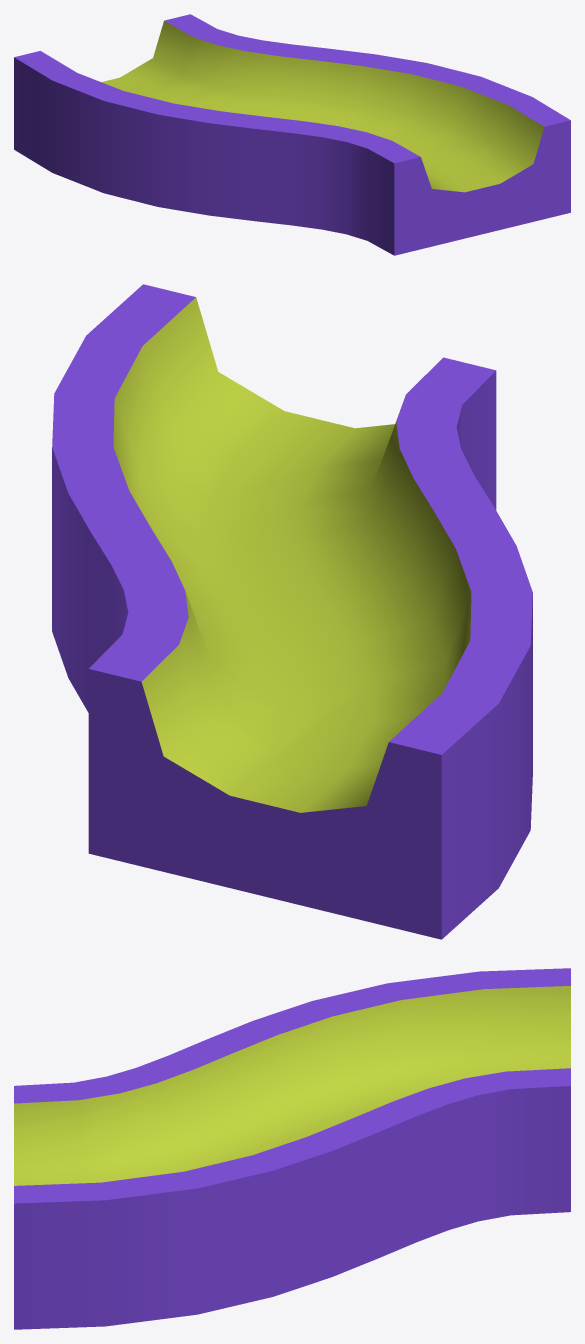
Rendered from s-curve_short_left_C-col.dae.
3 views of the same model, one above another, from view 1: azimuth 30°, elevation 25°; view 2: azimuth 150°, elevation 25°; view 3: azimuth 270°, elevation 25° (orthographic). The views are drawn at different scales.
Visible parts, largest first — view 1: s-curve_short_left_C-col; view 2: s-curve_short_left_C-col; view 3: s-curve_short_left_C-col.
Boxes of the visible parts, x1,y1,x2,y2 form: s-curve_short_left_C-col: (14, 14, 570, 255); s-curve_short_left_C-col: (52, 284, 532, 939); s-curve_short_left_C-col: (14, 968, 570, 1329).
Size of the model in its own units: 2 by 2 by 0.5.
